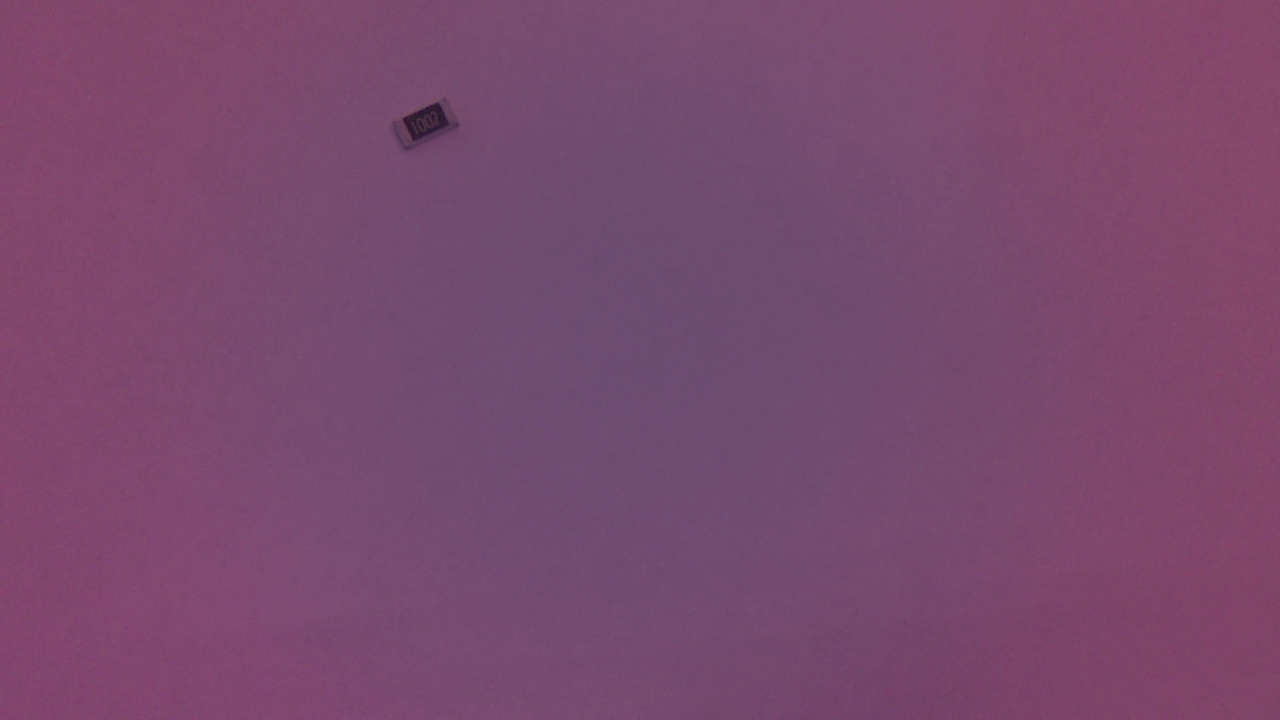Resistor: (390, 93, 471, 165)
